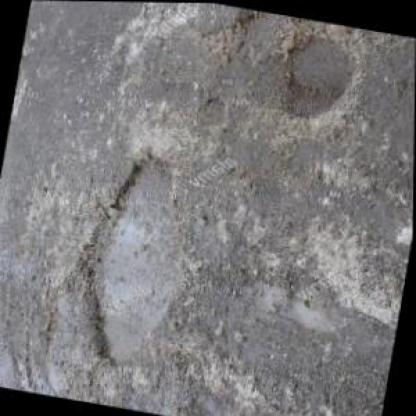pothole: (58, 137, 207, 376), (272, 22, 359, 122), (240, 261, 345, 337)
